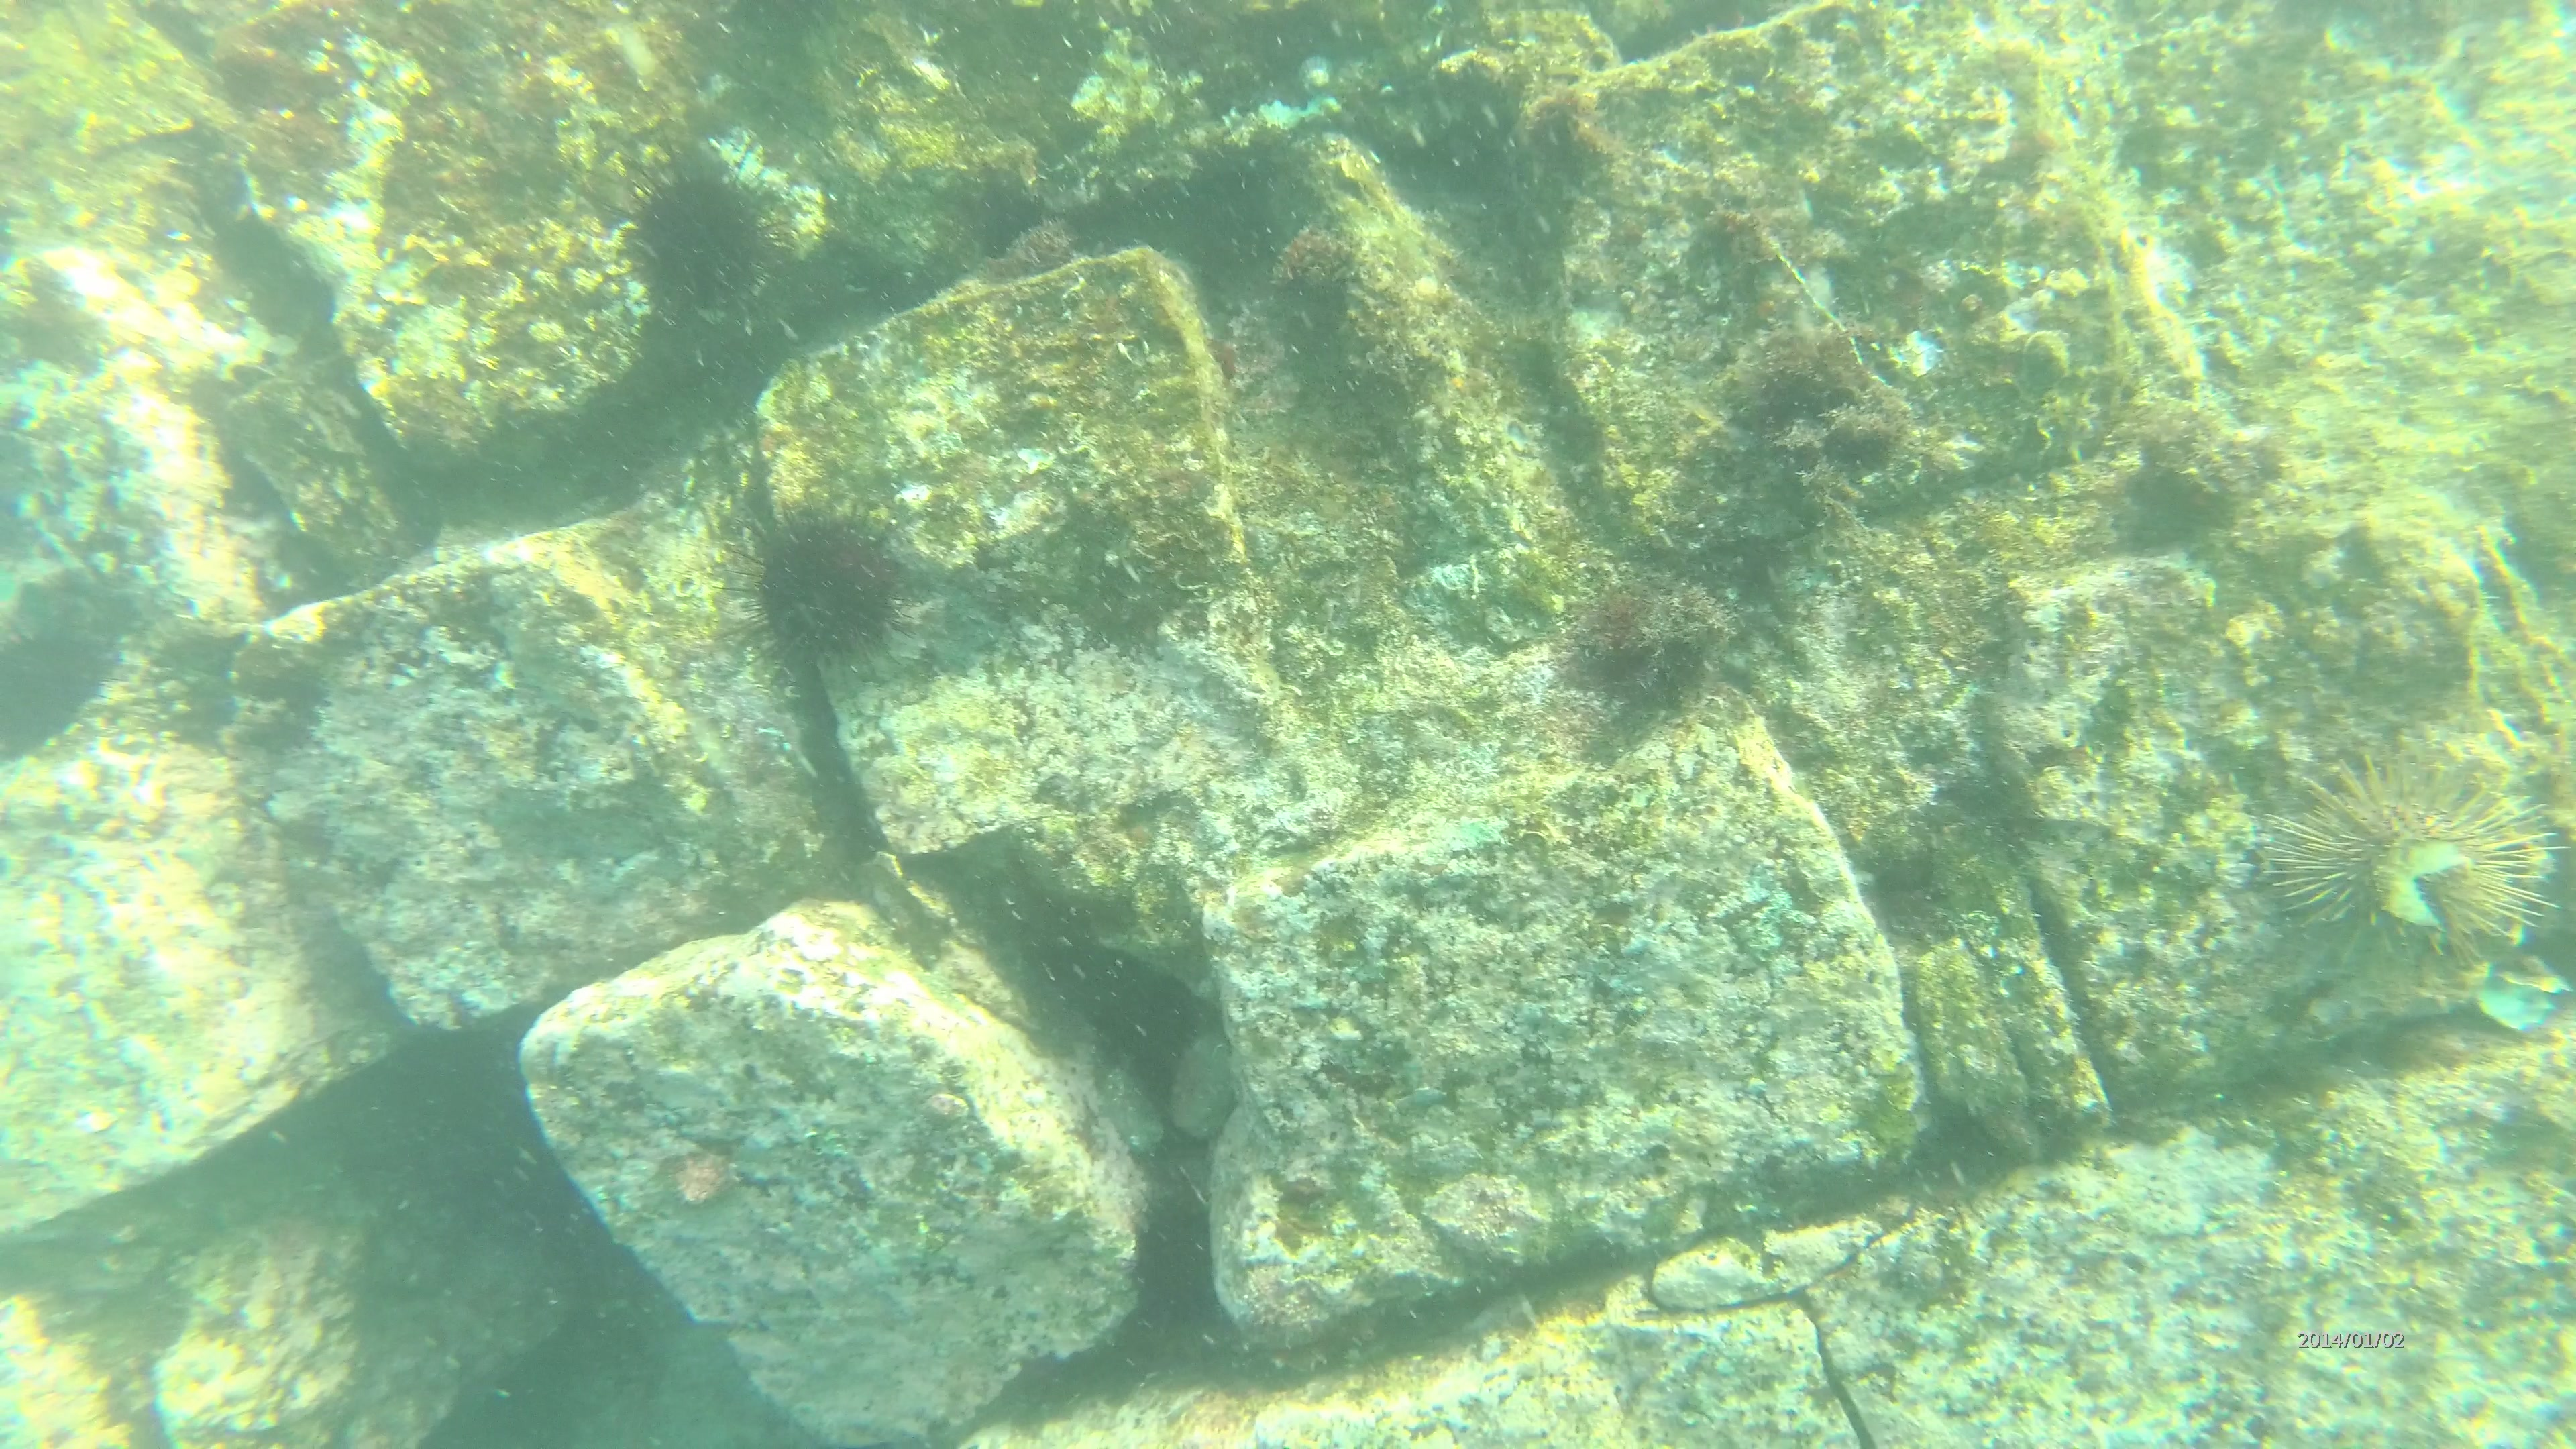echinus: (2272, 738, 2565, 989), (699, 492, 909, 678), (593, 147, 805, 324)
holothurian: (649, 1145, 738, 1207)
